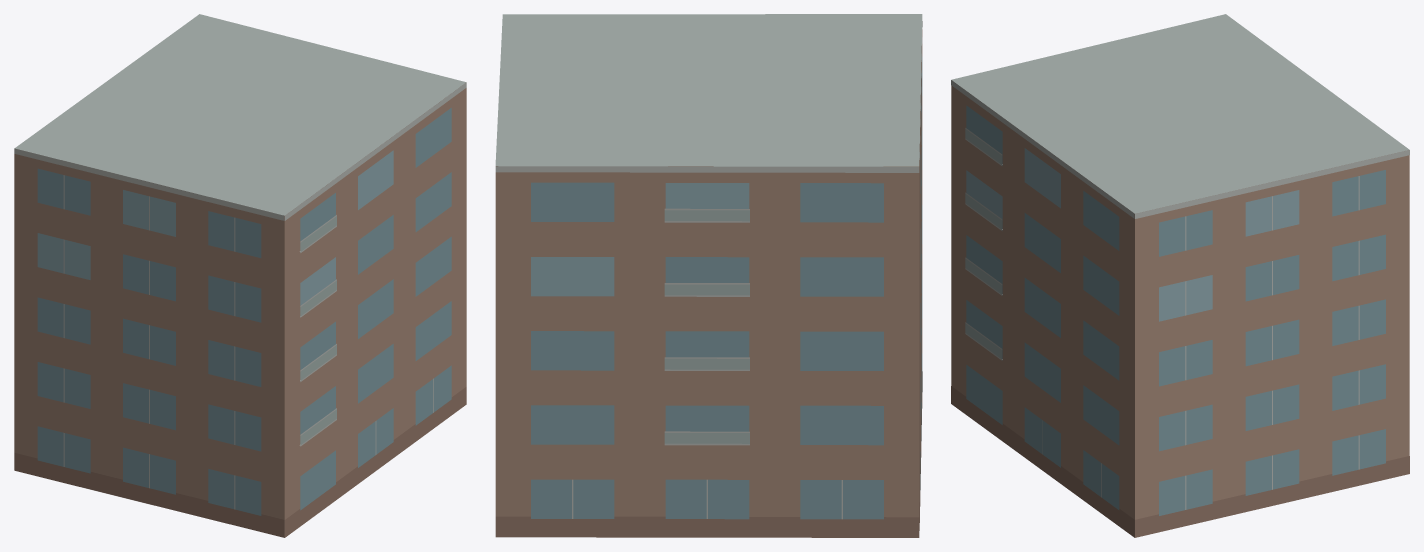
File: survey-upis-32694461.glb
The picture shows the model from 3 angles, left to right: view 1: azimuth 30°, elevation 25°; view 2: azimuth 150°, elevation 25°; view 3: azimuth 270°, elevation 25°; orthographic projection. The views are drawn at different scales.
Parts seen in each view (by area): view 1: survey-upis-32694461.tmp; view 2: survey-upis-32694461.tmp; view 3: survey-upis-32694461.tmp.
Part boxes in pixels (box(x1,y1,x2,y2)): survey-upis-32694461.tmp: box(14, 14, 466, 537); survey-upis-32694461.tmp: box(495, 14, 922, 537); survey-upis-32694461.tmp: box(951, 14, 1409, 537).
Size of the model in its own units: 19.44 by 14.7 by 18.86.
